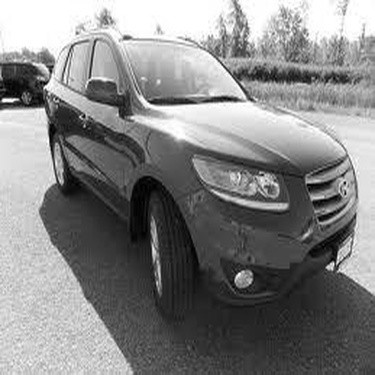car: (38, 20, 363, 323), (1, 59, 48, 106), (1, 65, 8, 109)
